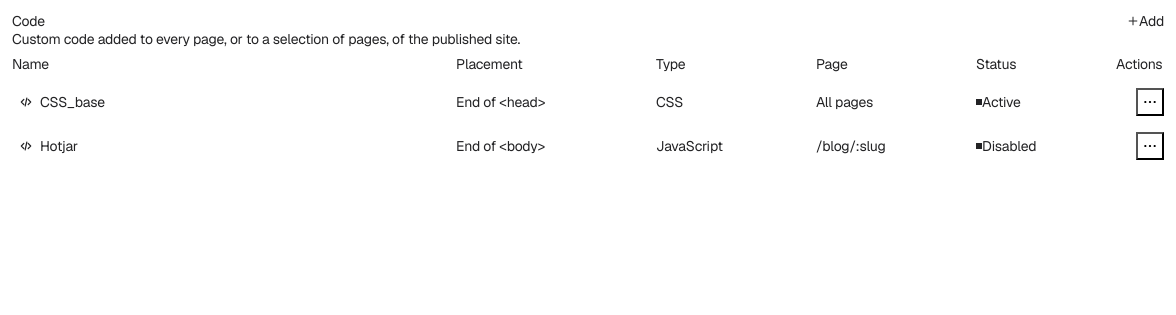
Test: CodeScreen › Enable depuis le menu ⋯ : server action + état de la Top bar
Click the button named "Actions for Hotjar". click: (1150, 146)
box: [1136, 132, 1164, 160]
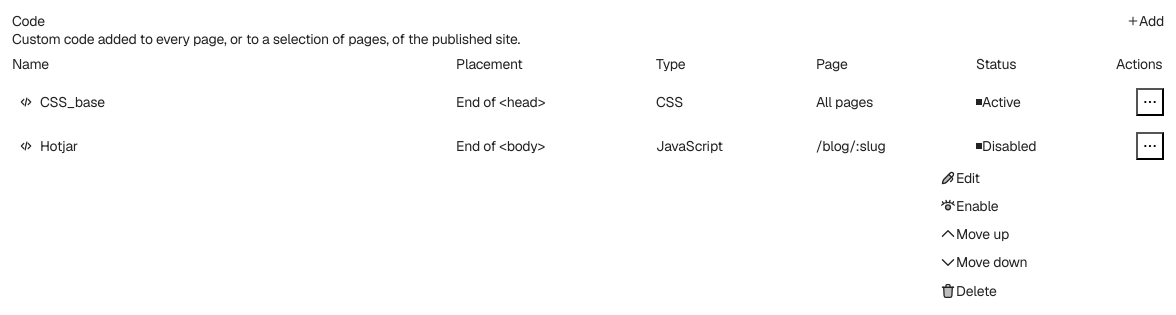
Click the menu item "Enable". click: (969, 206)
box: [940, 197, 998, 215]
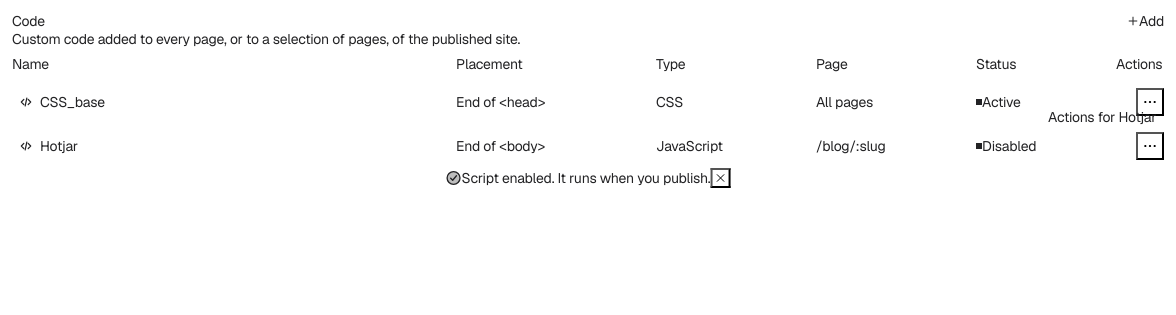
Expected: the text "Script enabled. It runs when you publish." is shown, [462, 169, 710, 187]
